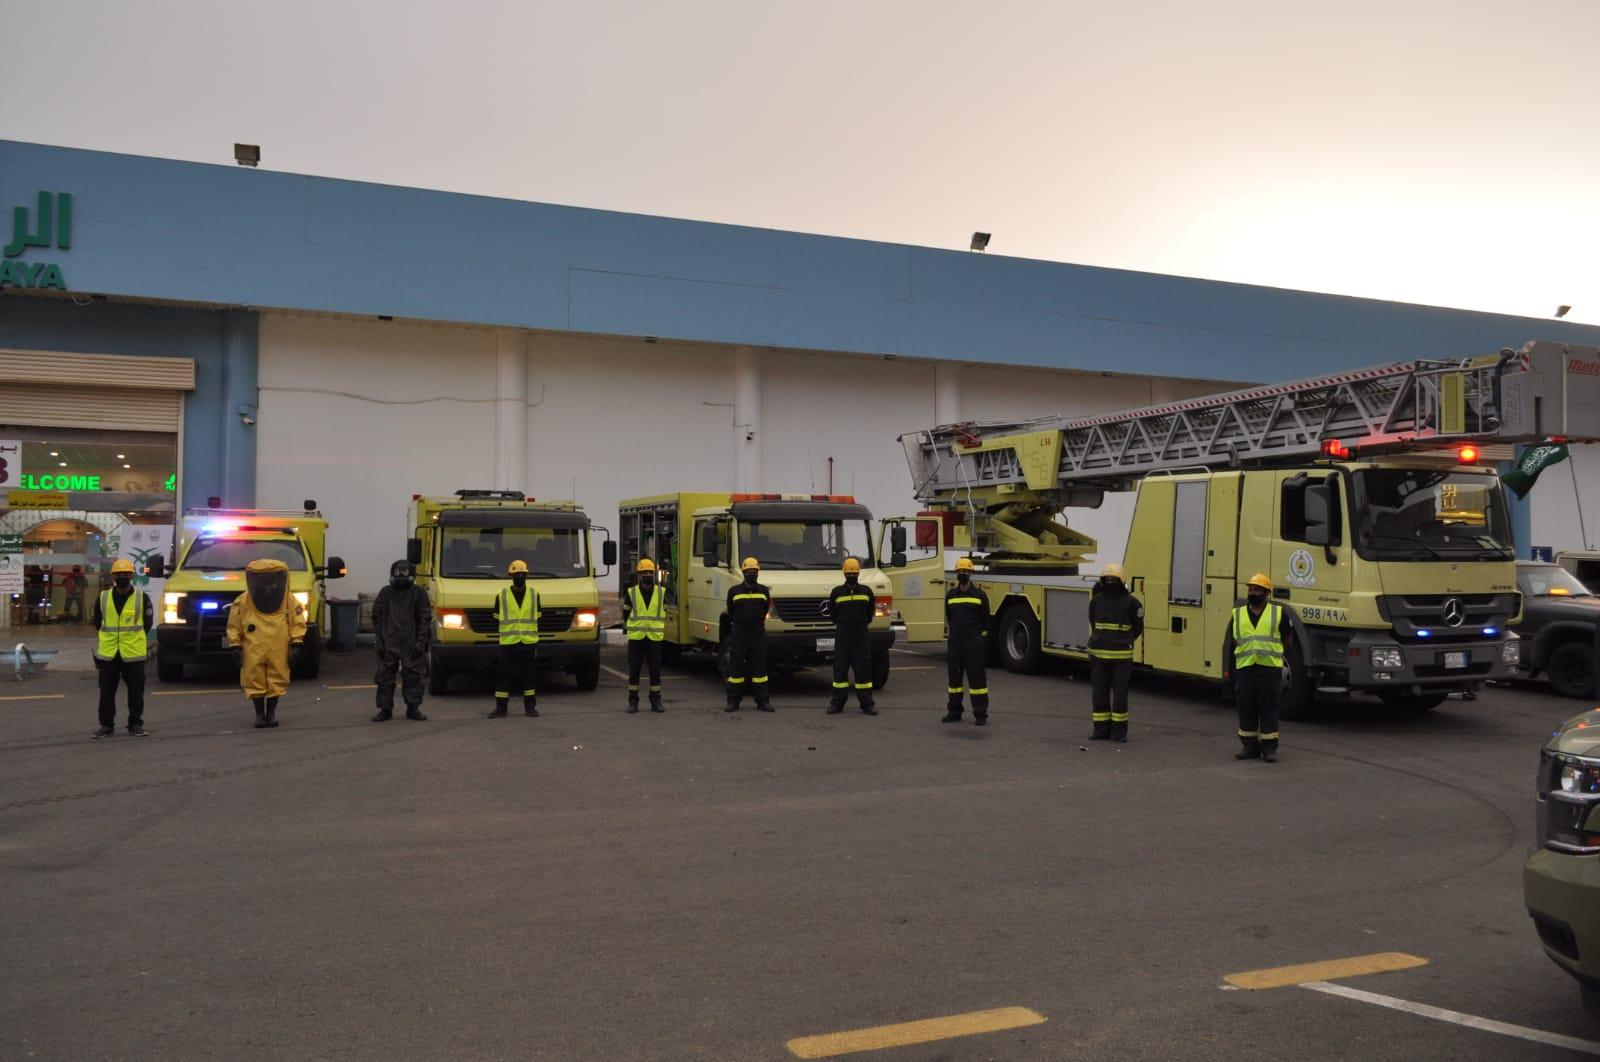firetruck_off: (619, 492, 905, 684), (404, 485, 609, 698)
firetruck_on: (902, 351, 1600, 685), (153, 497, 332, 689)
